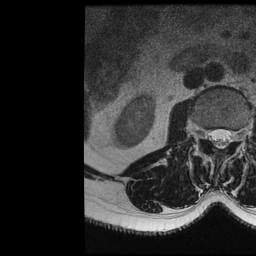CCS_normal: (216, 122, 223, 153)
LFS_normal: (232, 123, 239, 146)
LLS_normal: (224, 123, 231, 150)
RFS_normal: (200, 122, 208, 147)
RLS_normal: (208, 124, 216, 150)
